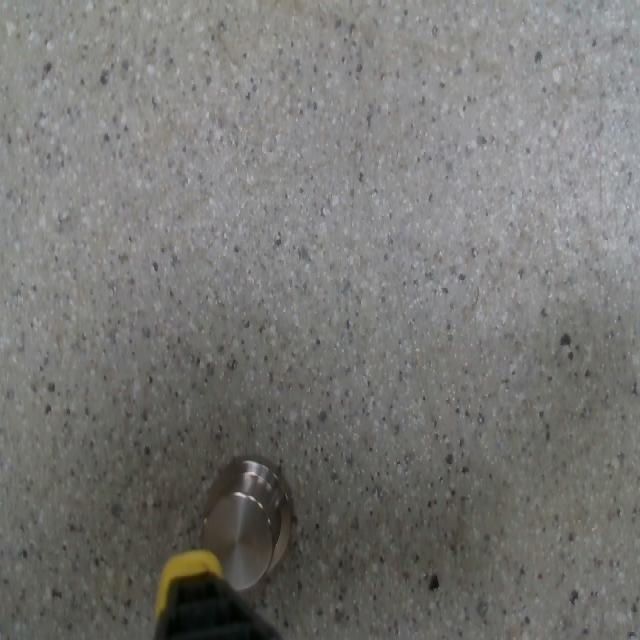sensor: (198, 455, 294, 591)
